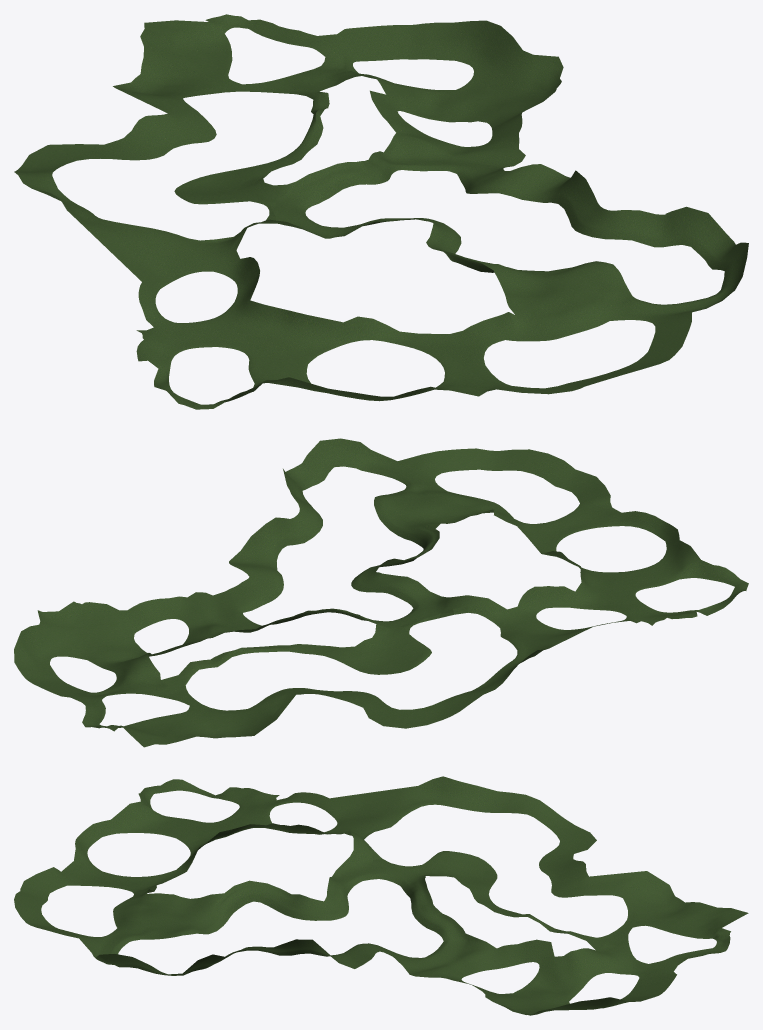
Rendered from rough.fbx.
The picture shows the model from 3 angles, top to bottom: view 1: azimuth 30°, elevation 25°; view 2: azimuth 150°, elevation 25°; view 3: azimuth 270°, elevation 25°; orthographic projection. The views are drawn at different scales.
Parts seen in each view (by area): view 1: rough1; view 2: rough1; view 3: rough1.
Boxes of the visible parts, left/top/right/bottom form: rough1: left=14, top=14, right=748, bottom=409; rough1: left=14, top=438, right=748, bottom=747; rough1: left=14, top=776, right=748, bottom=1015.
Size of the model in its own units: 109 by 11.29 by 146.
Materials: 1 (1 with a texture image).
